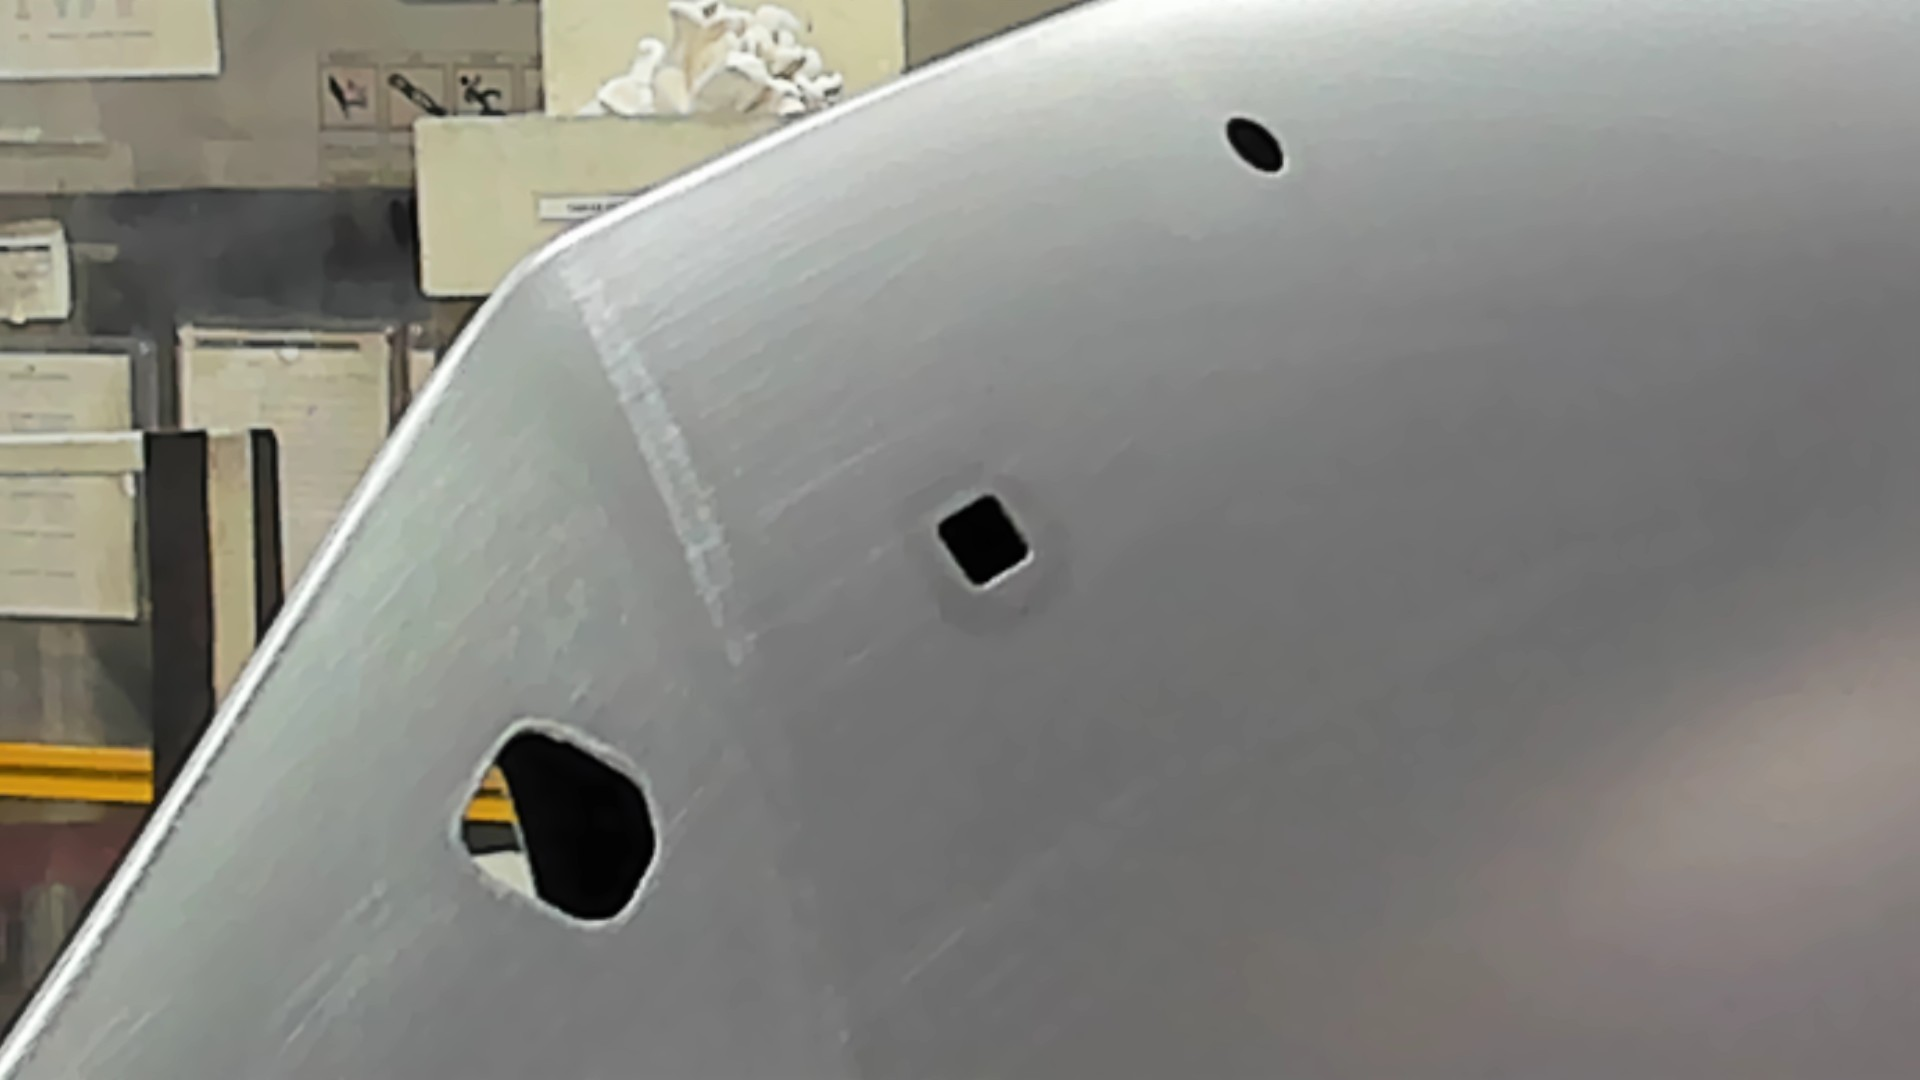capo: (1046, 185, 1920, 1080)
chico: (1222, 109, 1288, 178)
grande: (448, 715, 659, 938)
mediano: (928, 487, 1039, 593)
